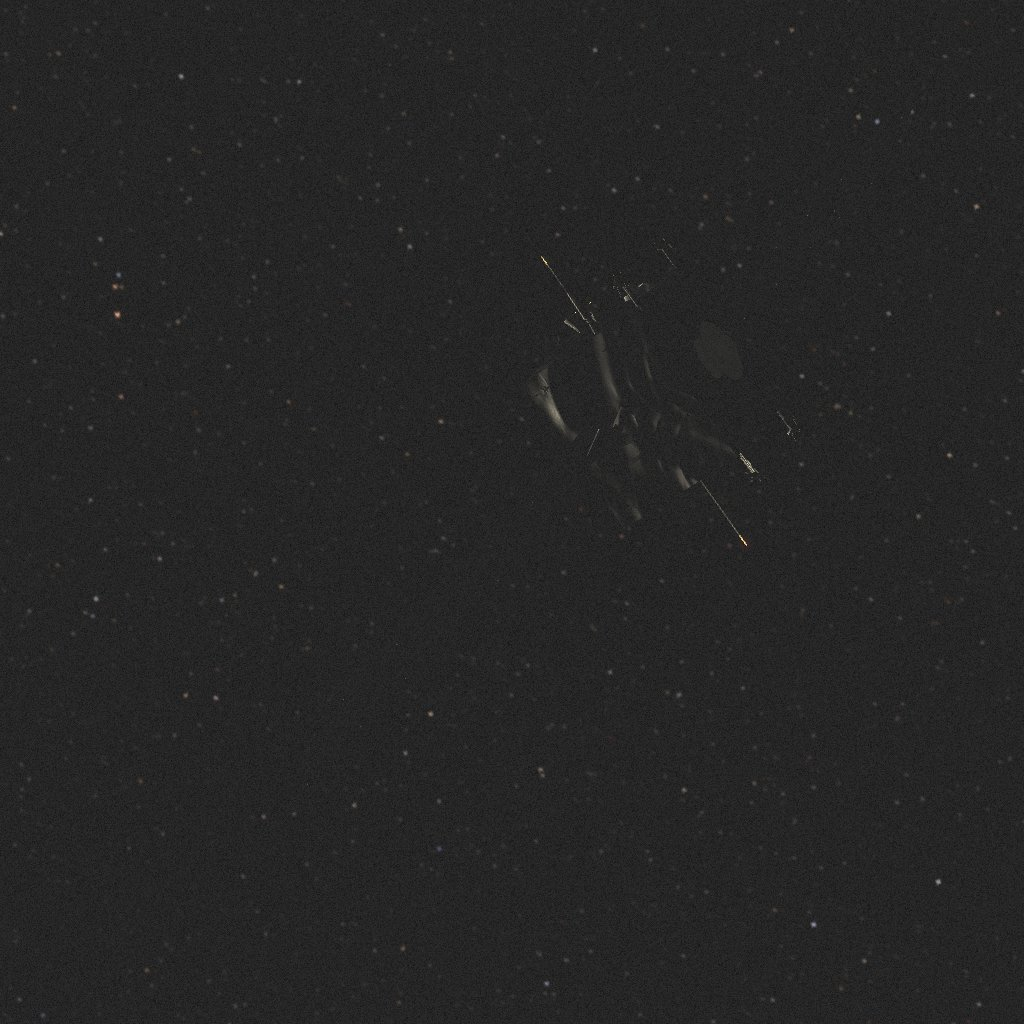smart_1: (295, 150, 873, 775)
